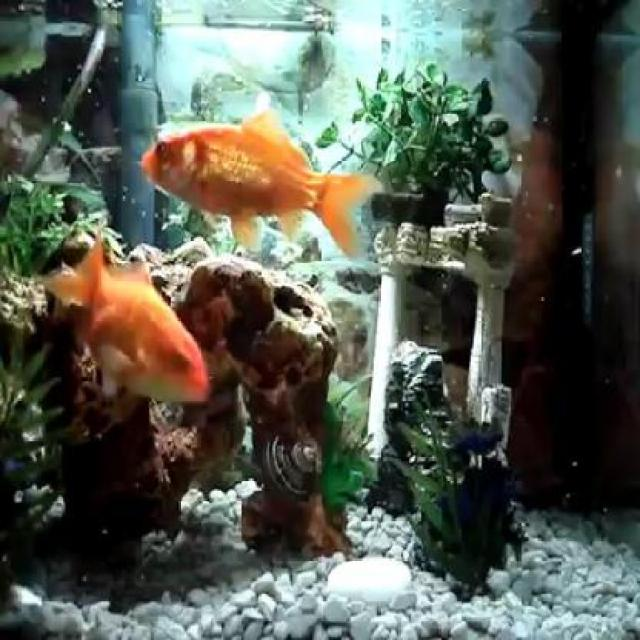GoldFish: (138, 104, 384, 253), (42, 235, 210, 402)
